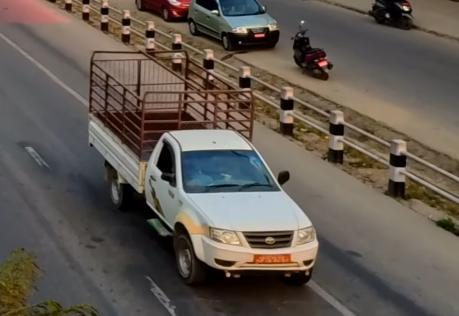car: (183, 0, 282, 55), (137, 0, 202, 24)
scooter: (284, 16, 337, 85), (368, 0, 419, 35)
transport_vehicle: (74, 44, 320, 298)
